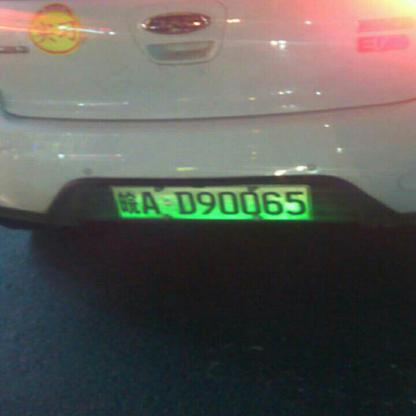lp: (112, 185, 313, 219)
